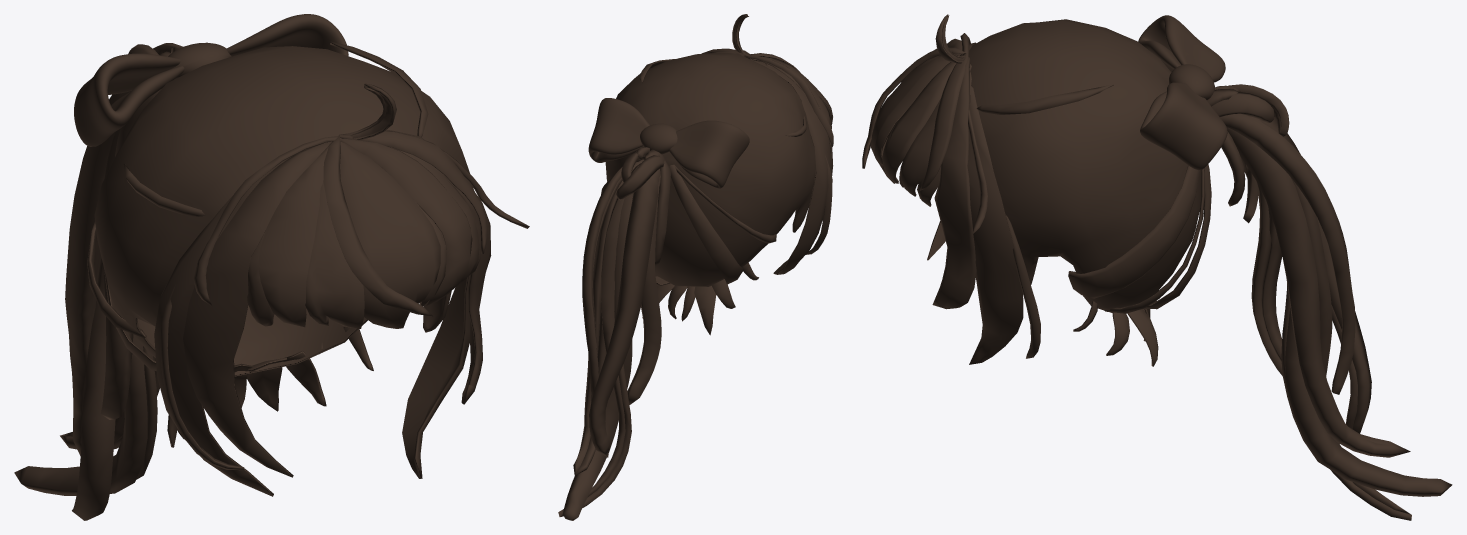
File: hair_braids_female.glb
3 renders of one model, left to right at view 1: azimuth 30°, elevation 25°; view 2: azimuth 150°, elevation 25°; view 3: azimuth 270°, elevation 25°, orthographic. The views are drawn at different scales.
Parts seen in each view (by area): view 1: hair_braids_female; view 2: hair_braids_female; view 3: hair_braids_female.
Part boxes in pixels (<box>): hair_braids_female: <box>14,14,529,520</box>; hair_braids_female: <box>558,14,833,520</box>; hair_braids_female: <box>862,14,1452,520</box>.
Bounding box in the file's own units: 0.2141 × 0.3739 × 0.4007.
